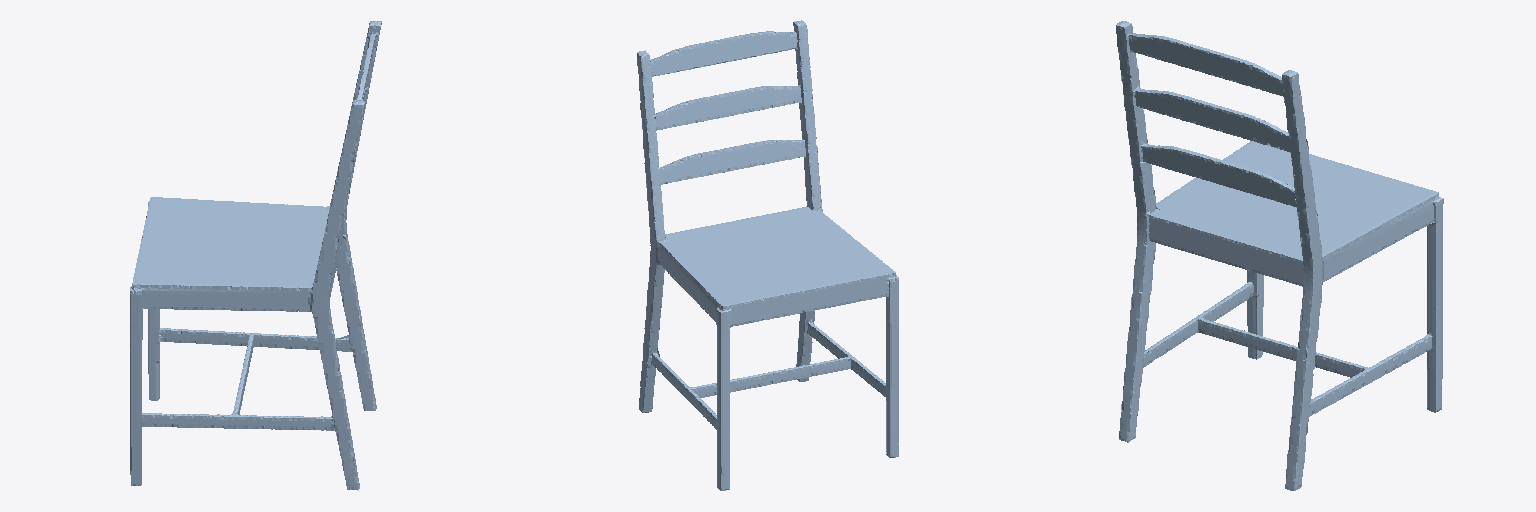
robot.urdf — woodchair.urdf:
<?xml version="1.0" ?>
<robot name="woodchair.urdf">
  <dynamics damping="0.5" friction="0.9"/>
  <link name="baseLink">
    <contact>
      <lateral_friction value="0.9"/>
      <rolling_friction value="0.5"/>
      <stiffness value="30000"/>
      <damping value="1000"/>
    </contact>
    <visual>
      <origin rpy="0 0 0" xyz="0 0 0"/>
      <geometry>
        <mesh filename="objects/woodchair/woodchair.obj" scale="1.0 1.0 1.0"/>
      </geometry>
       <material name="mat">
        <color rgba="0.7 0.8 0.9 1"/>
      </material>
    </visual>
    <collision>
      <origin rpy="0 0 0" xyz="0 0 0"/>
      <geometry>
	 	<mesh filename="objects/woodchair/woodchair.obj" scale="1.0 1.0 1.0"/>
      </geometry>
    </collision>
  </link>
</robot>

--- What the picture shows (computed from the rendered views, not written in the file) ---
The picture shows the robot from 3 angles, left to right: view 1: azimuth 30°, elevation 25°; view 2: azimuth 150°, elevation 25°; view 3: azimuth 270°, elevation 25°; orthographic projection.
Model woodchair.urdf with 1 links and 0 joints (none), rooted at baseLink, posed all joints at 0.
Visible links, largest first — view 1: baseLink; view 2: baseLink; view 3: baseLink.
Link boxes in pixels (x1=…): baseLink: x1=130, y1=21, x2=381, y2=490; baseLink: x1=637, y1=20, x2=898, y2=490; baseLink: x1=1116, y1=21, x2=1443, y2=490.
Size in the robot's own frame: 0.6403 by 0.6247 by 0.8793 metres.
Meshes: 1 distinct files referenced, 1 mesh visuals loaded (1 OBJ).